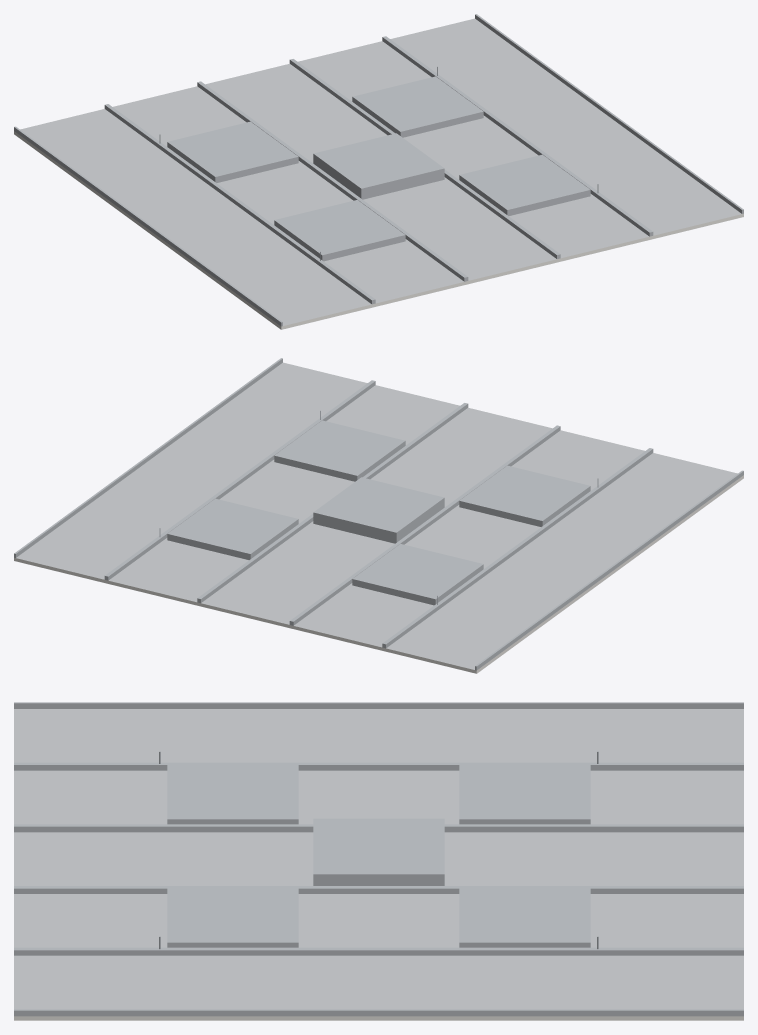
Rendered from SC_Bld_Store_Ceiling_3x3_AC.gltf.
The picture shows the model from 3 angles, top to bottom: view 1: azimuth 30°, elevation 25°; view 2: azimuth 150°, elevation 25°; view 3: azimuth 270°, elevation 25°; orthographic projection. The views are drawn at different scales.
Visible parts, largest first — view 1: SC_Bld_Store_Ceiling_3x3_AC; view 2: SC_Bld_Store_Ceiling_3x3_AC; view 3: SC_Bld_Store_Ceiling_3x3_AC.
Boxes of the visible parts, x1,y1,x2,y2 form: SC_Bld_Store_Ceiling_3x3_AC: [14, 14, 743, 329]; SC_Bld_Store_Ceiling_3x3_AC: [14, 358, 743, 673]; SC_Bld_Store_Ceiling_3x3_AC: [14, 702, 743, 1020].
Bounding box in the file's own units: 3 × 0.144 × 3.
2 materials, 2 textured.
